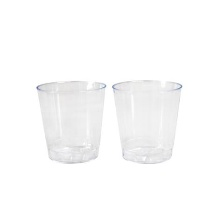glass: (25, 73, 107, 164), (109, 74, 187, 169)
